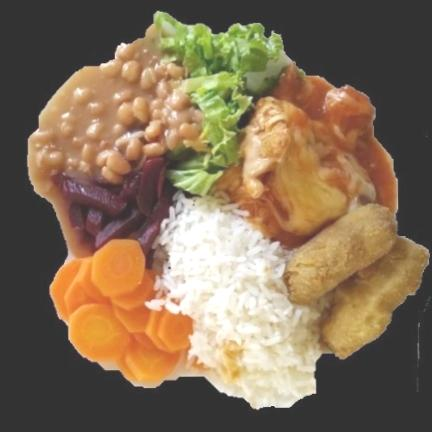beans: (29, 25, 201, 254)
beet: (54, 158, 173, 254)
carrot: (50, 240, 192, 380)
rice: (152, 192, 322, 407)
salad: (154, 12, 291, 194)
